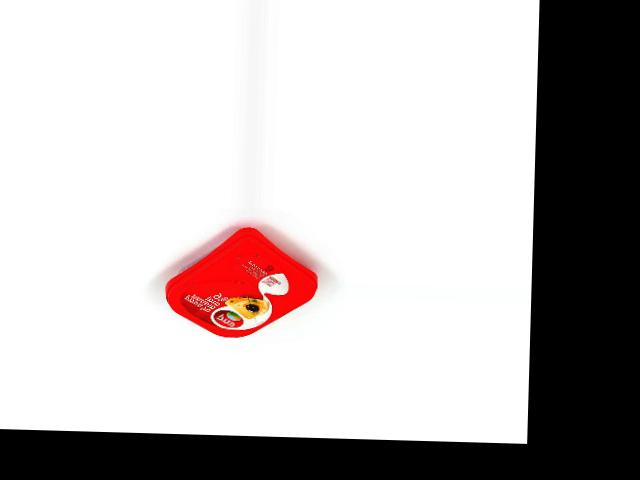cheese: (164, 224, 319, 340)
